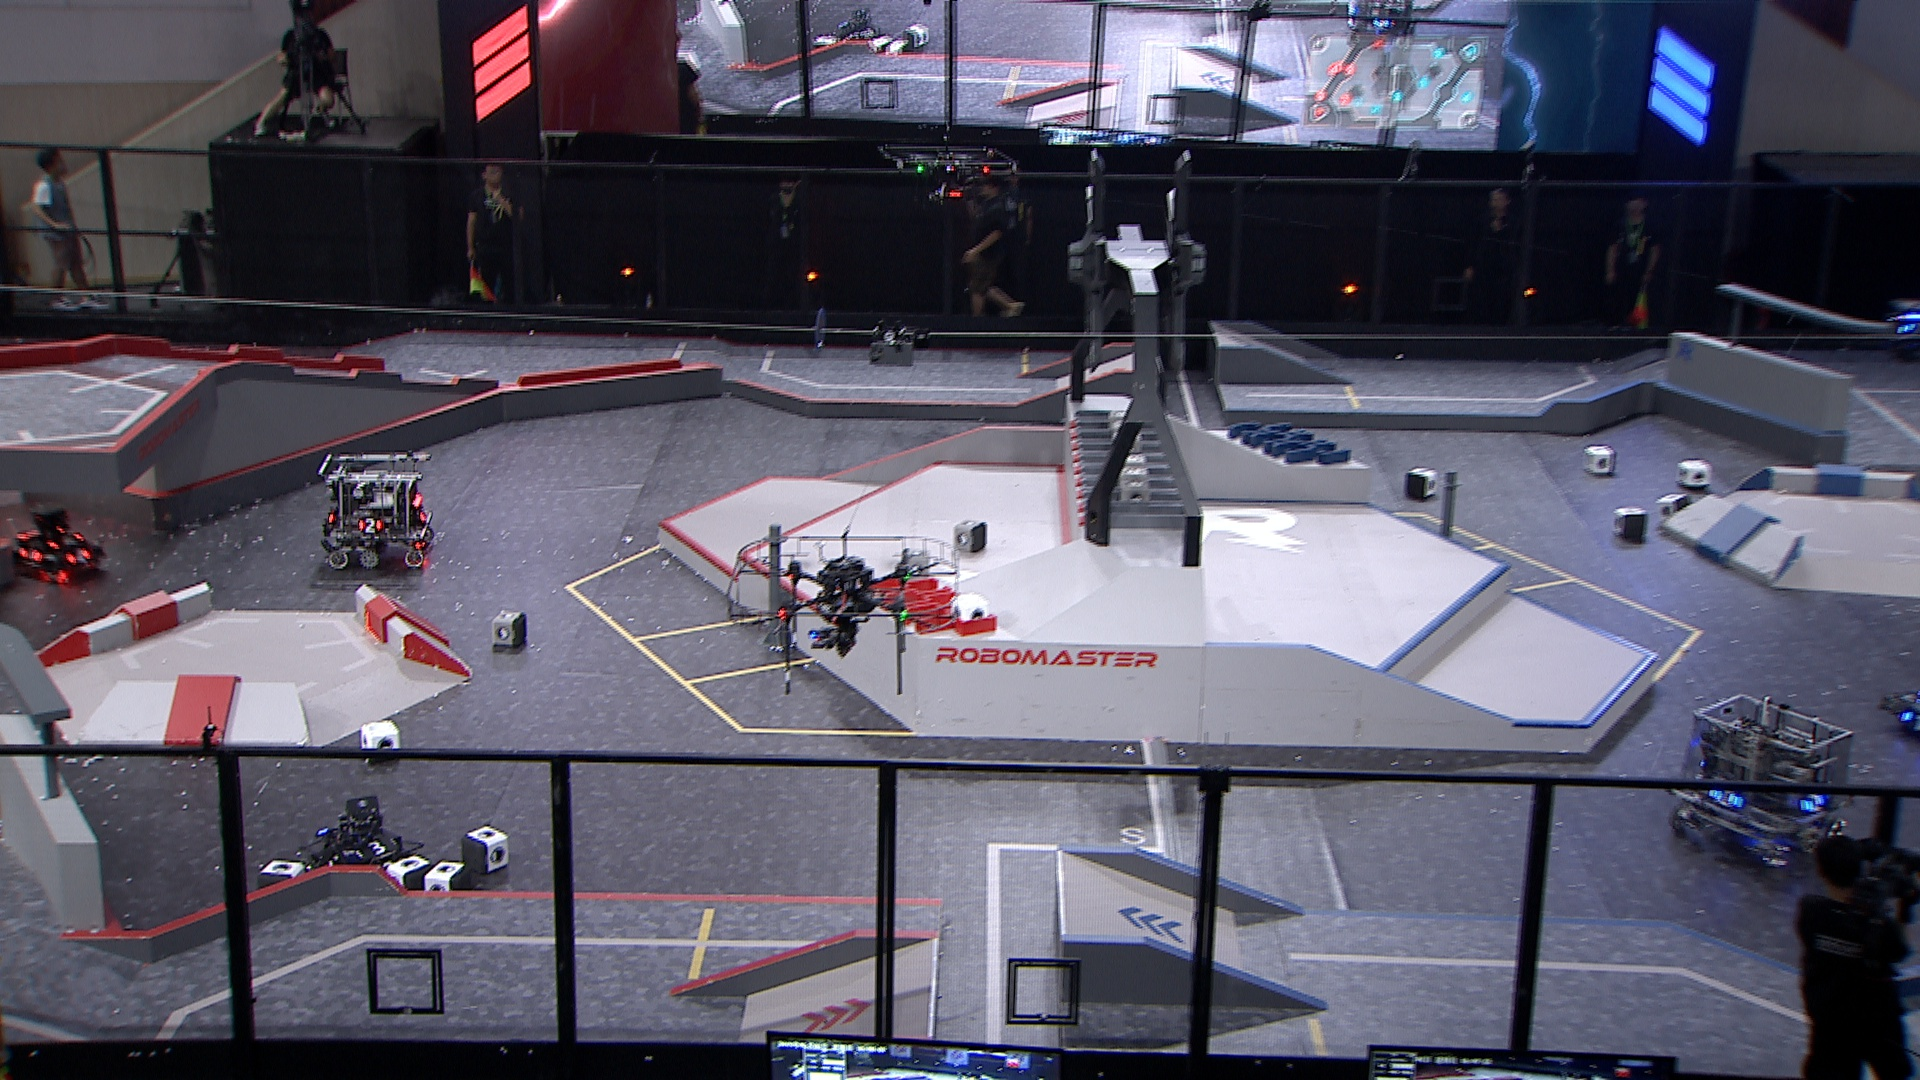armor: (1708, 785, 1741, 808), (359, 835, 392, 858), (47, 531, 82, 550), (1803, 790, 1828, 814), (15, 545, 41, 564), (353, 517, 382, 534), (65, 547, 91, 564), (1896, 315, 1920, 334), (1904, 711, 1920, 732), (419, 505, 429, 520)
car: (1665, 690, 1851, 873), (316, 451, 443, 572), (302, 790, 409, 880), (0, 502, 107, 589), (1875, 666, 1920, 752)
ignore: (833, 7, 877, 45)
watcher: (1888, 289, 1920, 353)
